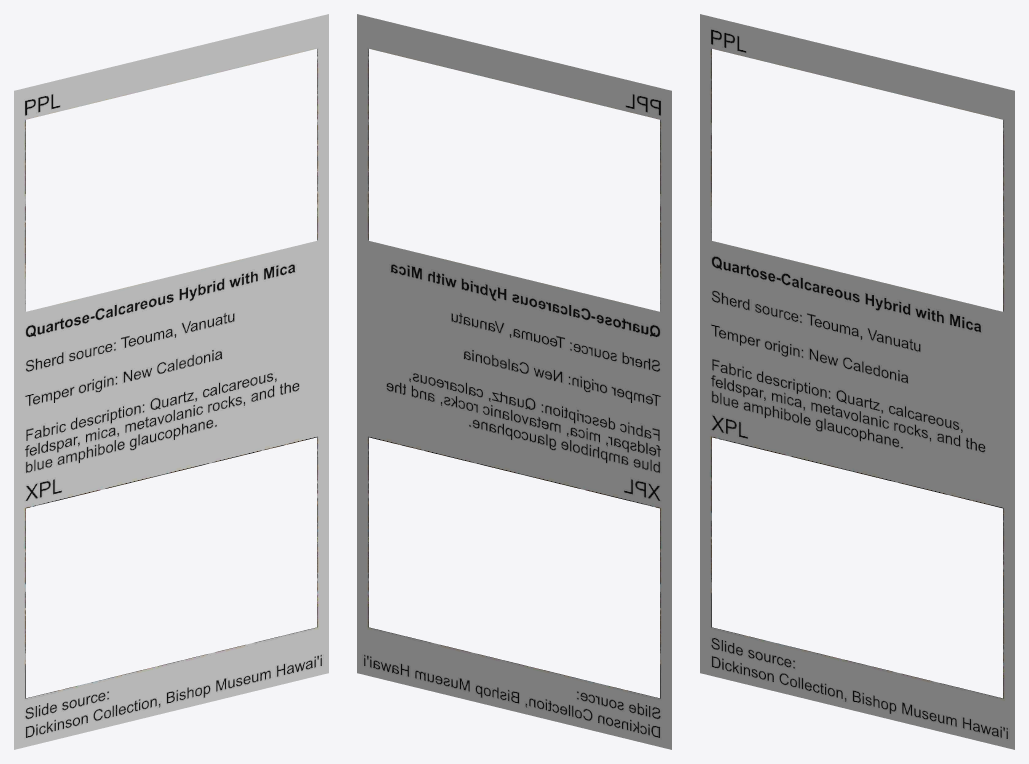
File: wd_46_4_frame.glb
3 renders of one model, left to right at view 1: azimuth 30°, elevation 25°; view 2: azimuth 150°, elevation 25°; view 3: azimuth 330°, elevation 25°, orthographic.
Visible parts, largest first — view 1: WD_46_4.006; view 2: WD_46_4.006; view 3: WD_46_4.006.
Boxes of the visible parts, left/top/right/bottom form: WD_46_4.006: left=14, top=14, right=328, bottom=749; WD_46_4.006: left=357, top=14, right=671, bottom=749; WD_46_4.006: left=700, top=14, right=1014, bottom=749.
Bounding box in the file's own units: 0.5 × 1 × 4.37e-08.
1 material, 1 textured.
